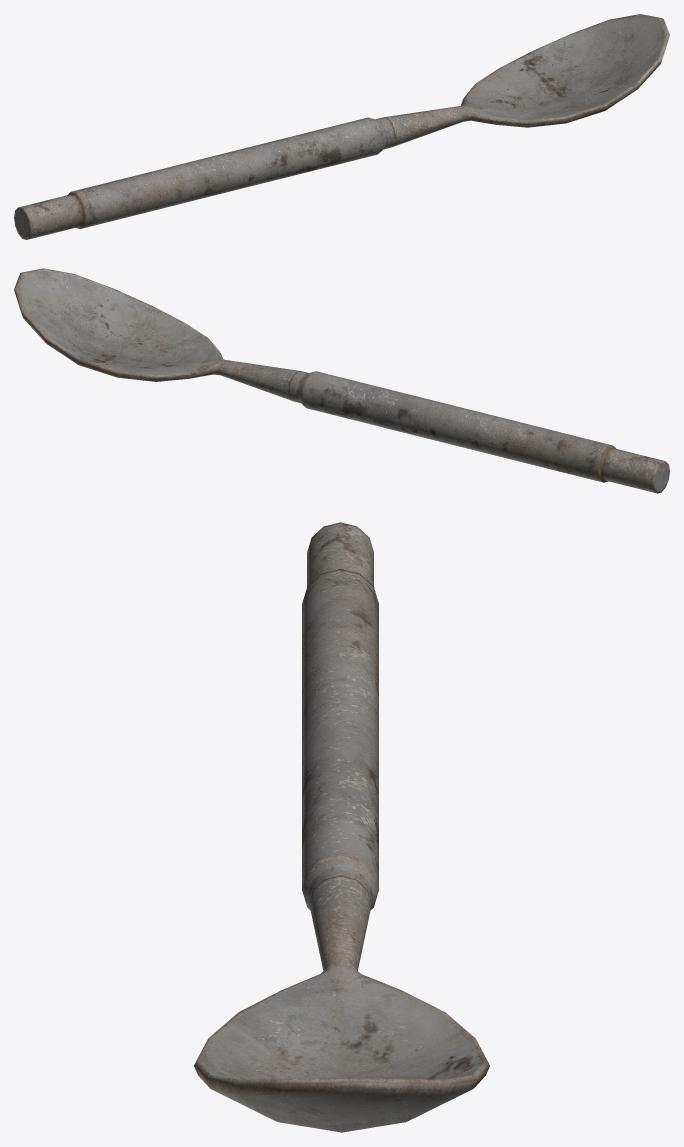
The model's file is SM_Kitchenware04_2_LOD0.glb.
The picture shows the model from 3 angles, top to bottom: view 1: azimuth 30°, elevation 25°; view 2: azimuth 150°, elevation 25°; view 3: azimuth 270°, elevation 25°; orthographic projection. The views are drawn at different scales.
Visible parts, largest first — view 1: SM_Kitchenware04_2_LOD0; view 2: SM_Kitchenware04_2_LOD0; view 3: SM_Kitchenware04_2_LOD0.
Boxes of the visible parts, x1,y1,x2,y2 form: SM_Kitchenware04_2_LOD0: [14, 14, 669, 239]; SM_Kitchenware04_2_LOD0: [14, 268, 669, 493]; SM_Kitchenware04_2_LOD0: [194, 522, 489, 1132].
Bounding box in the file's own units: 0.3724 × 0.0378 × 0.0745.
1 material, 1 textured.
